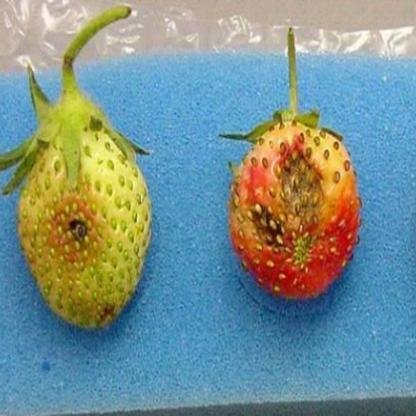Strawberry_Anthracnose_Fruit_Rot: (230, 128, 342, 275), (44, 190, 114, 268)
